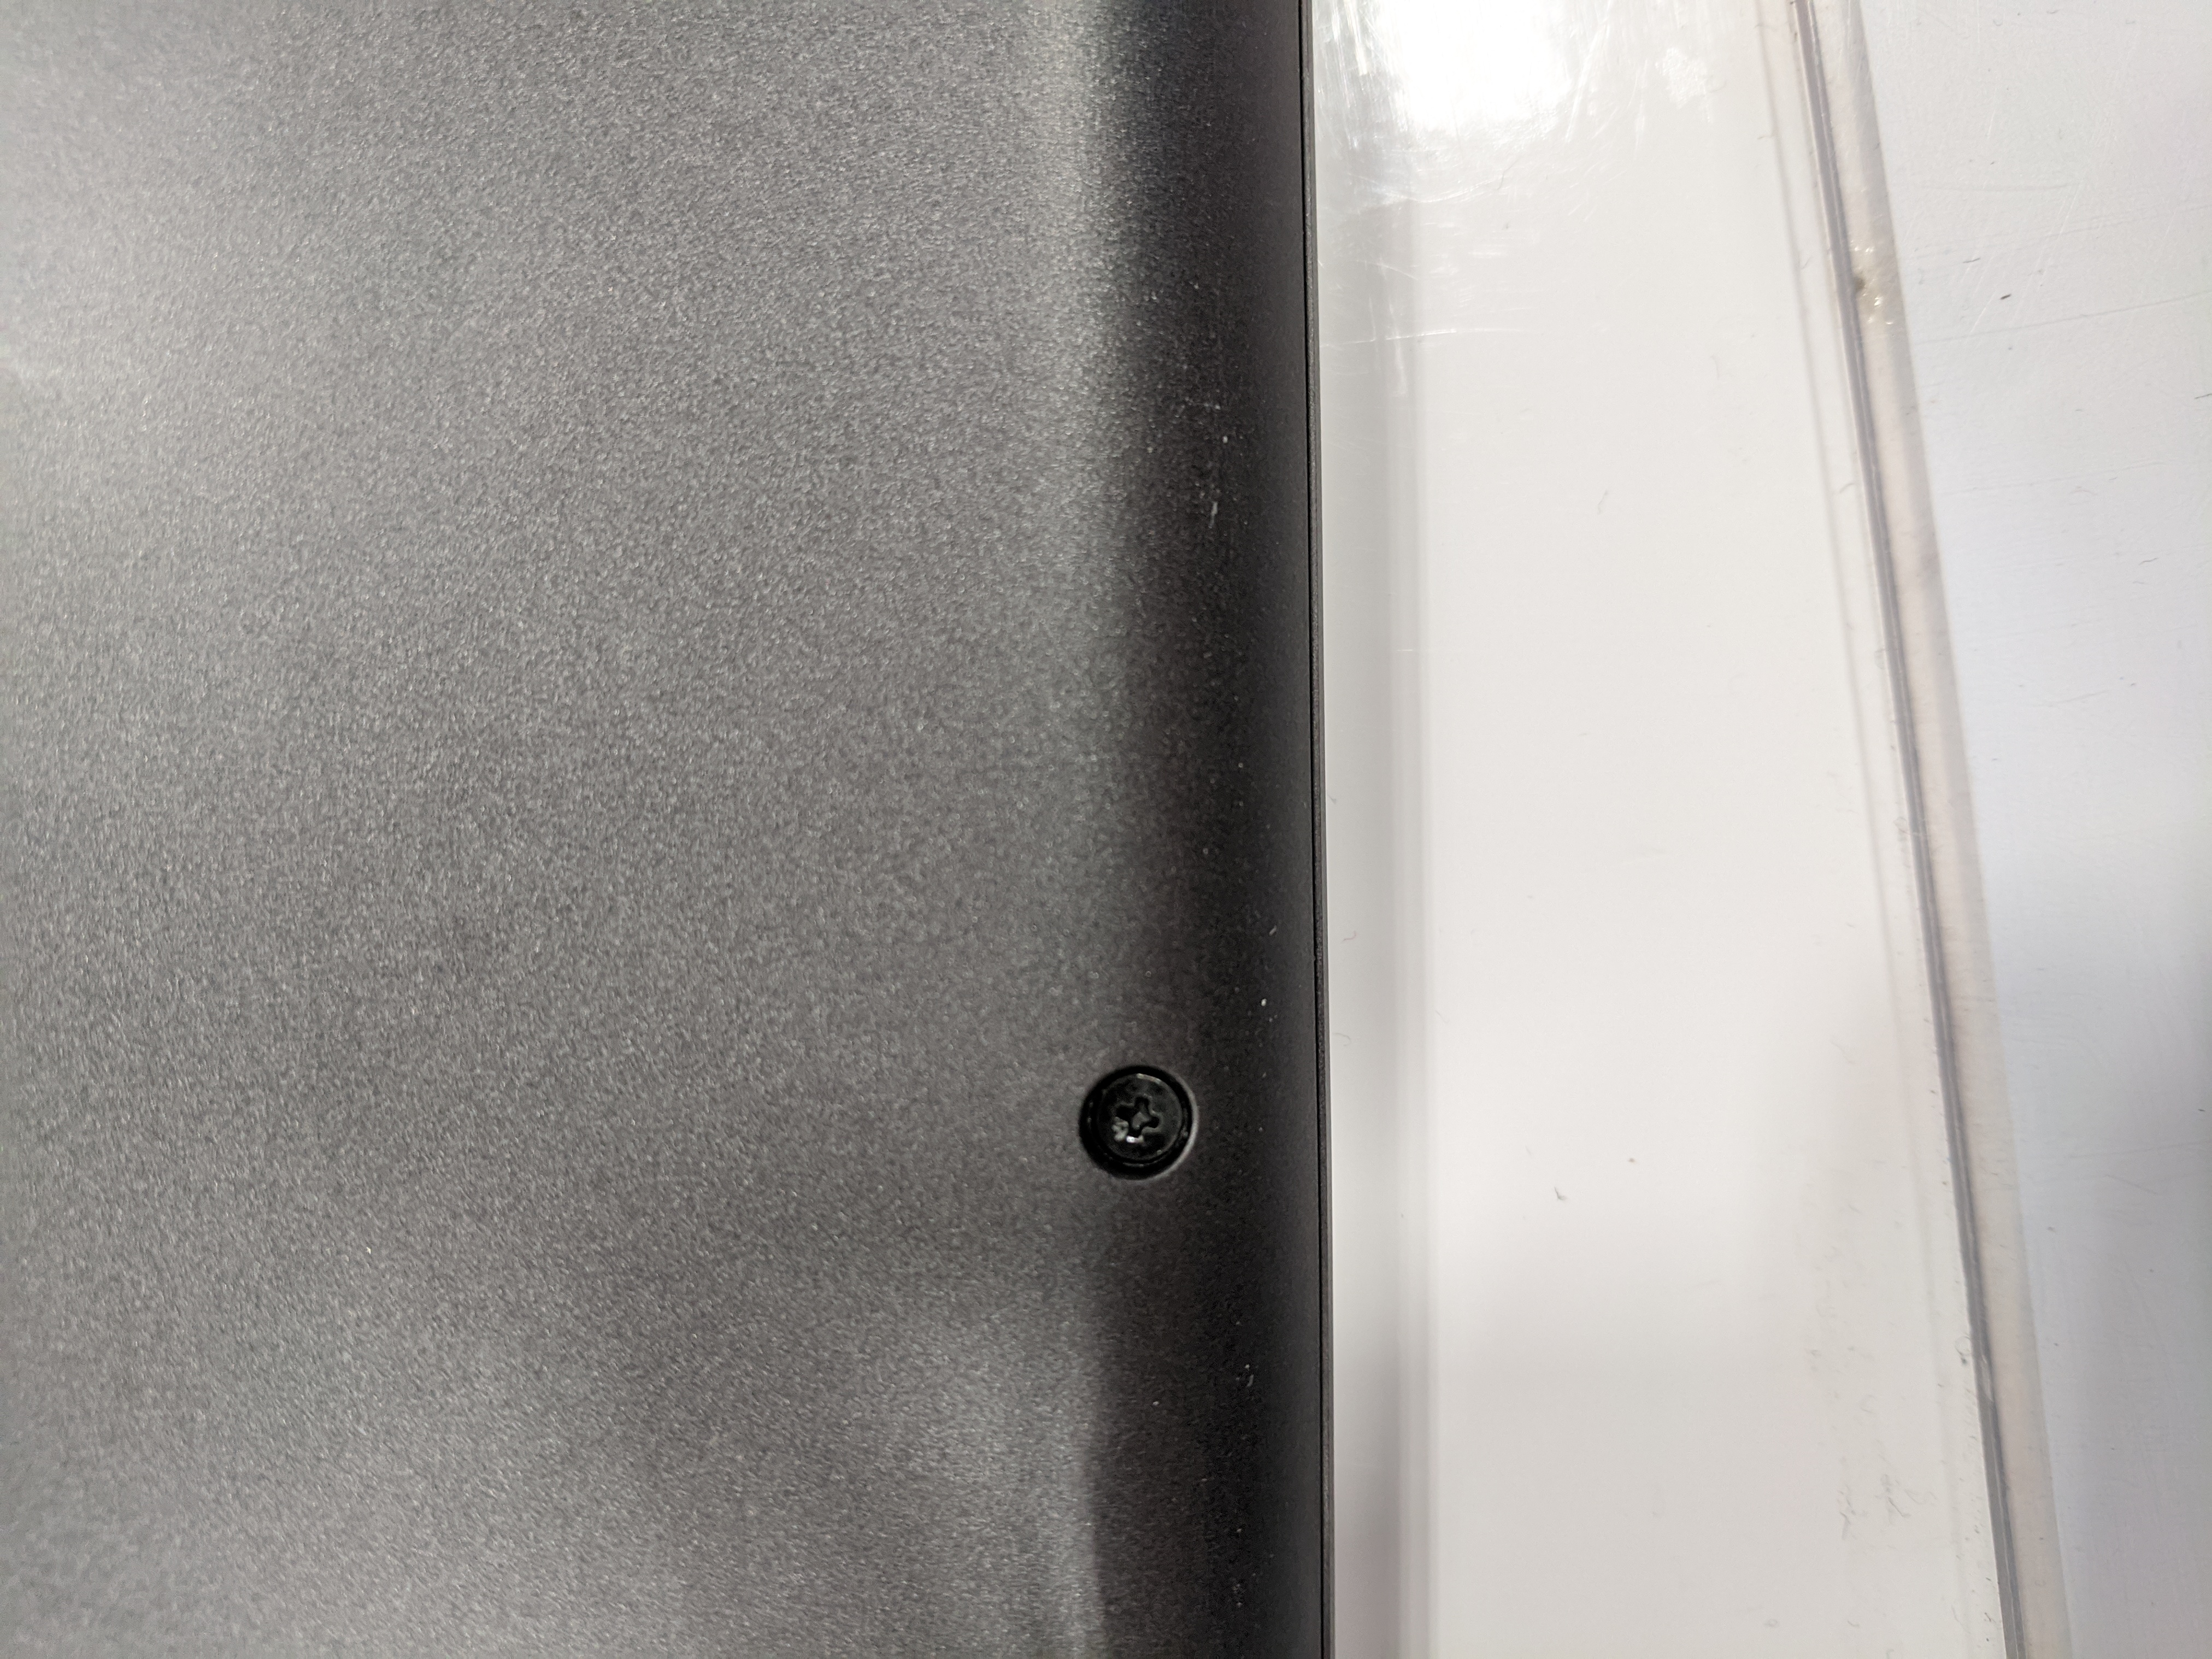cross_recessed_screw: (1069, 1056, 1204, 1187)
